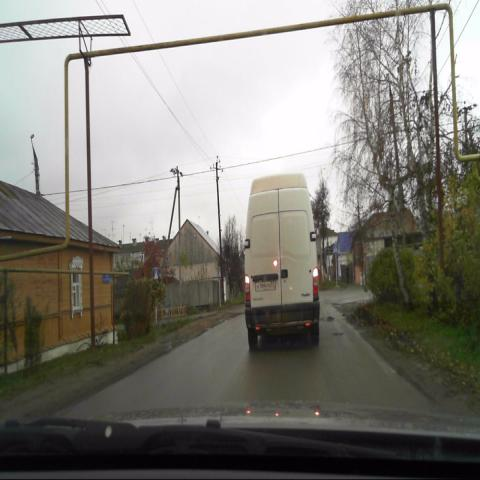5_19_1: (332, 244, 340, 255)
